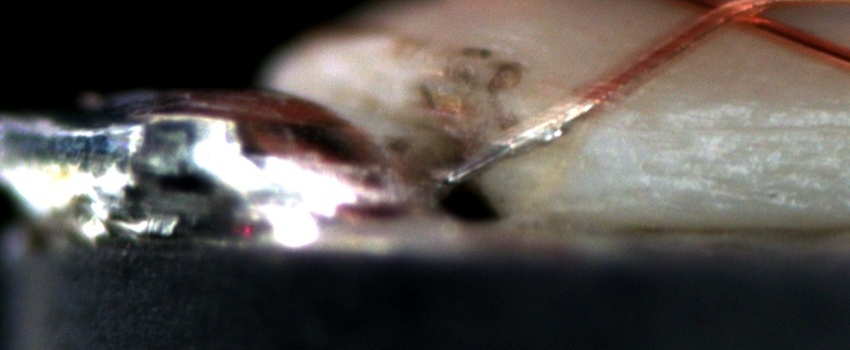CL: (687, 2, 771, 31)
DL: (642, 92, 850, 154)
TS: (437, 102, 595, 190)
